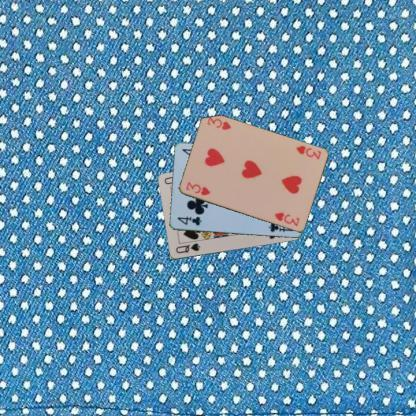3h: (294, 143, 323, 161), (183, 180, 211, 198)
4c: (174, 214, 202, 226)
Qs: (172, 240, 202, 255)
